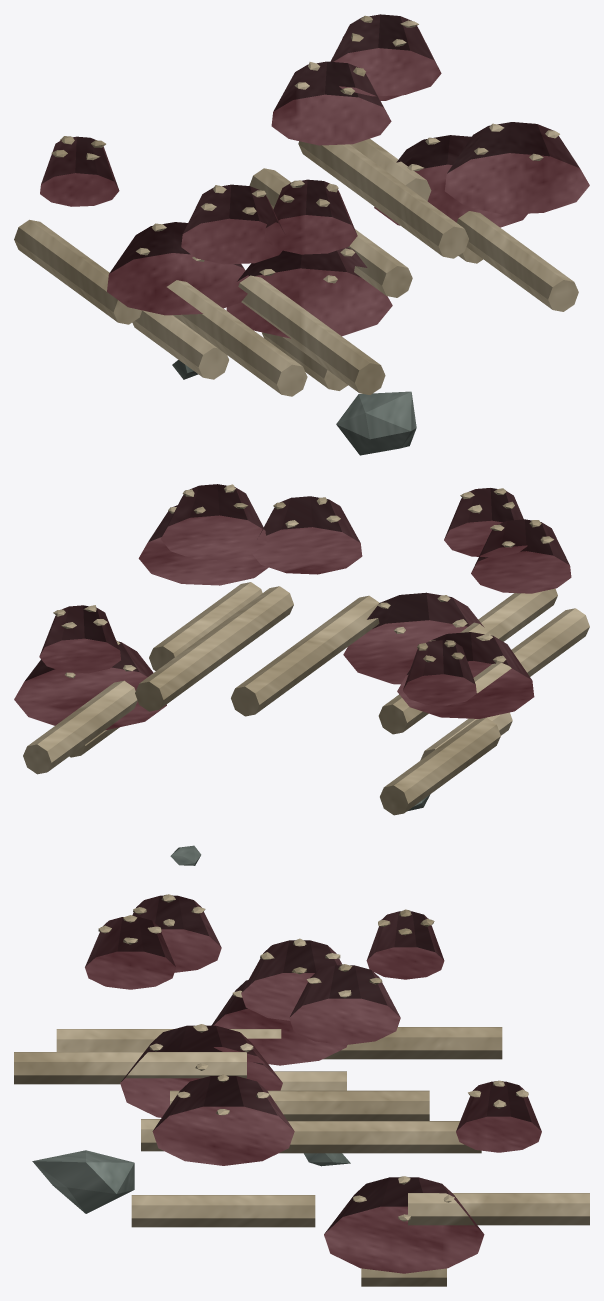
File: 0207_mushroom_patch_07.glb
3 renders of one model, top to bottom at view 1: azimuth 30°, elevation 25°; view 2: azimuth 150°, elevation 25°; view 3: azimuth 270°, elevation 25°, orthographic. The views are drawn at different scales.
Visible parts, largest first — view 1: cloth, bone, stone; view 2: cloth, bone, stone; view 3: cloth, bone, stone.
Part boxes in pixels (x1=…): cloth: x1=40, y1=14, x2=589, y2=338; bone: x1=14, y1=15, x2=578, y2=396; stone: x1=172, y1=360, x2=416, y2=455; cloth: x1=14, y1=484, x2=571, y2=730; bone: x1=23, y1=484, x2=589, y2=815; stone: x1=170, y1=794, x2=430, y2=865; cloth: x1=85, y1=895, x2=541, y2=1273; bone: x1=14, y1=894, x2=589, y2=1286; stone: x1=32, y1=1150, x2=350, y2=1213.
Size of the model in its own units: 1.88 by 1.1 by 2.
3 materials, 3 textured.
